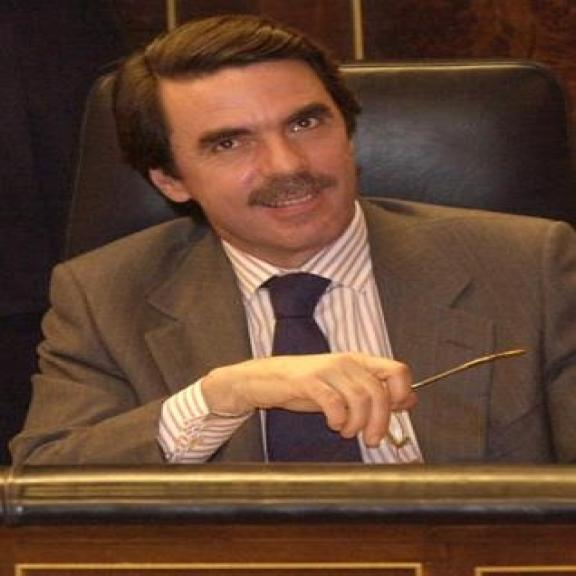face: (132, 69, 373, 254)
